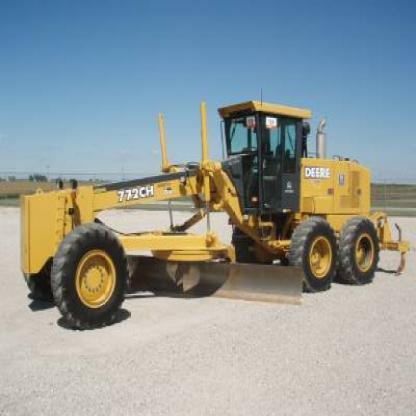bull_dozer/loader/grader: (17, 89, 398, 334)
